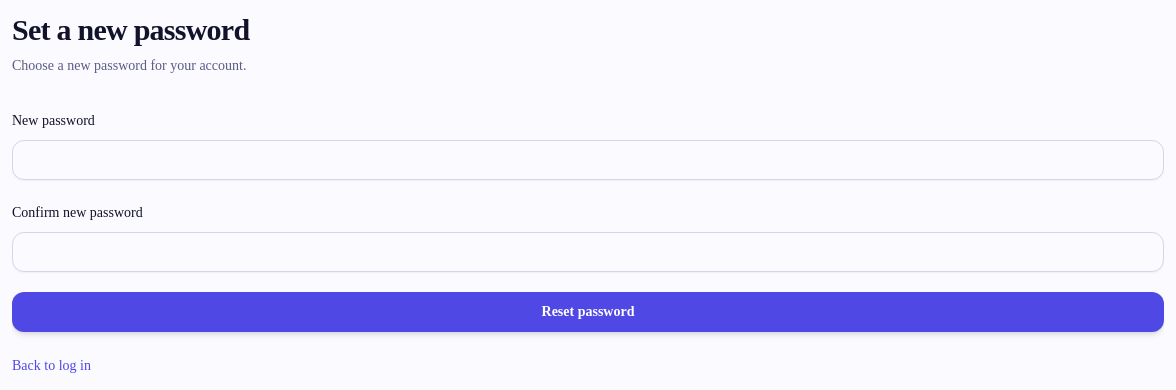
reset password form › resets the password and displays success
Type "StrongPass123!" into the password field labelled "New password". click: (588, 160)
box: [12,140,1164,180]
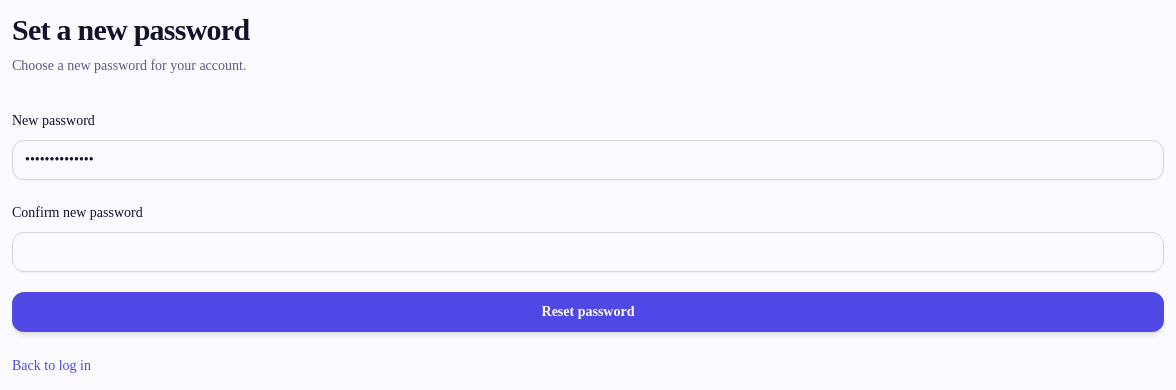
Type "StrongPass123!" into the password field labelled "Confirm new password". click: (588, 252)
box: [12,232,1164,272]
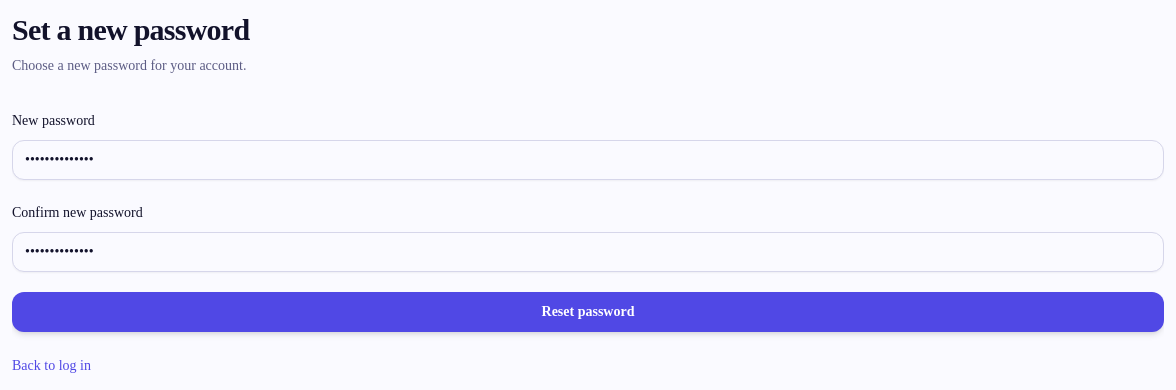
Click the button "Reset password". click: click(588, 312)
box: [12,292,1164,332]
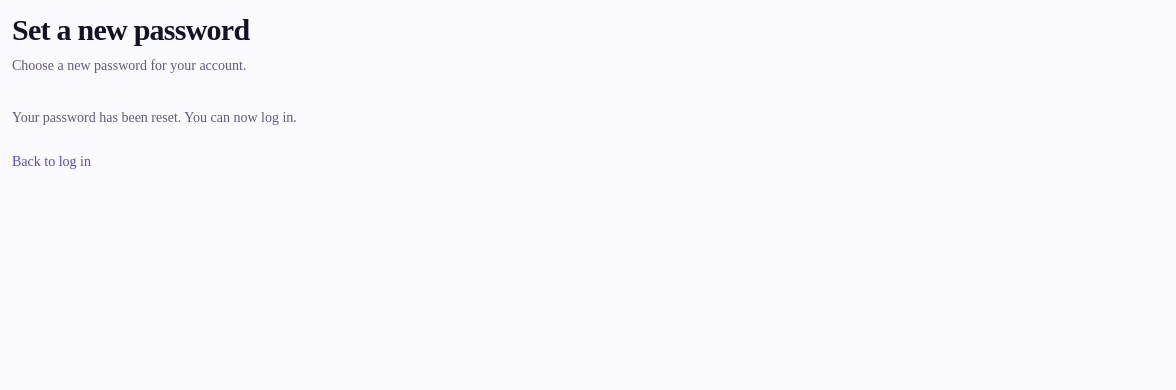
Now the text "Your password has been reset. You can now log in." is shown, box [12,110,297,125]
